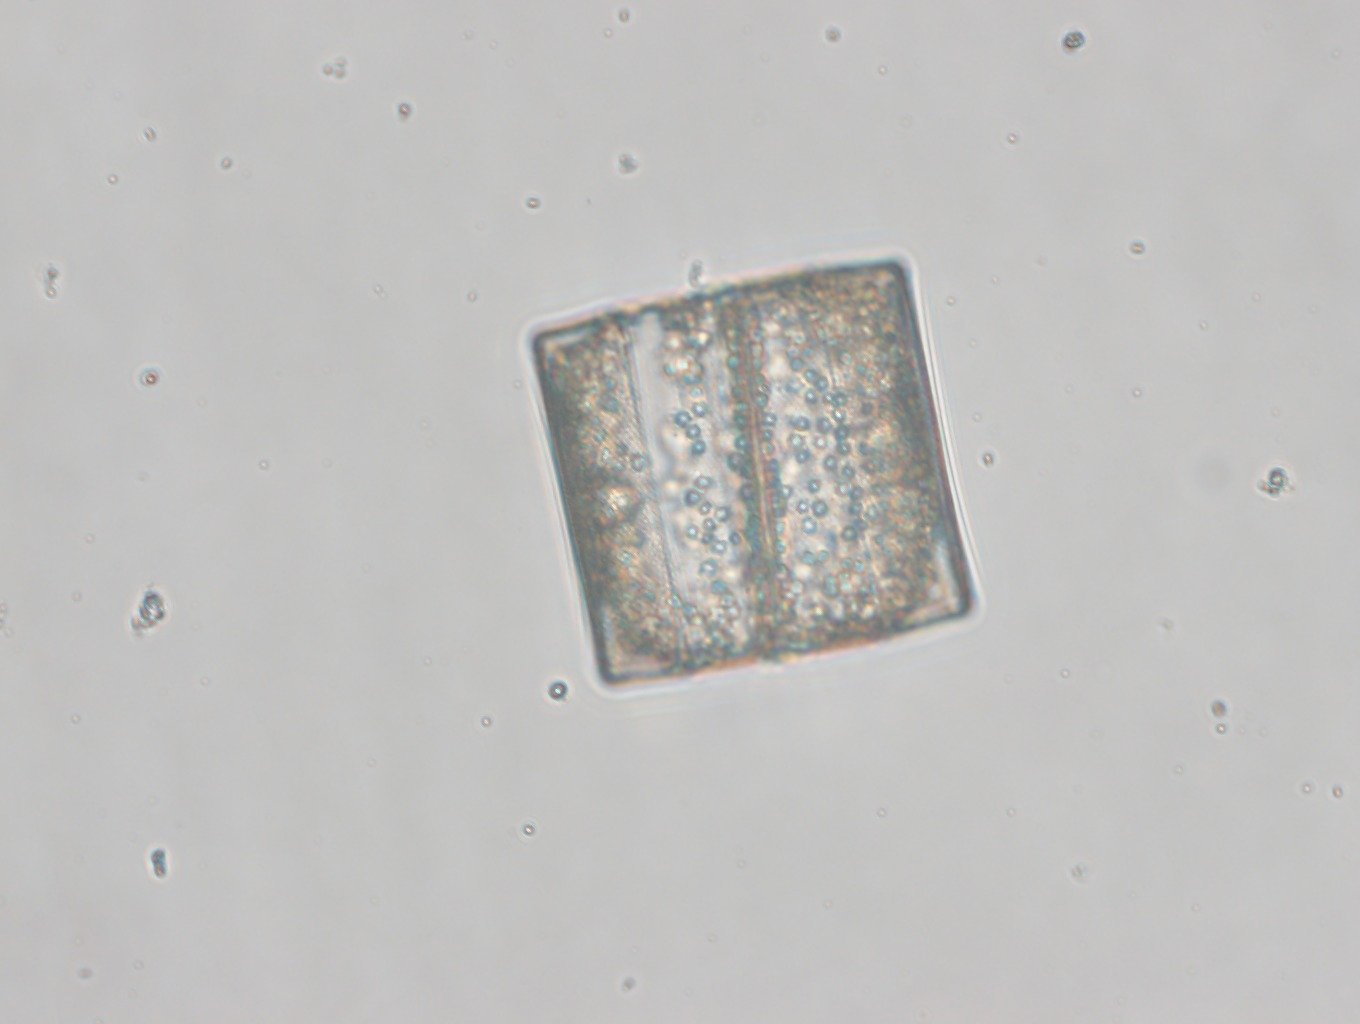coscinodiscus flank: (499, 236, 1003, 705)
